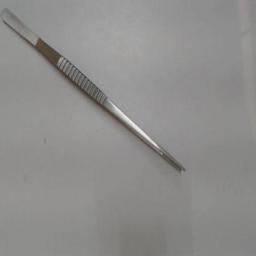DeBakey Dissector: (0, 0, 202, 188)
